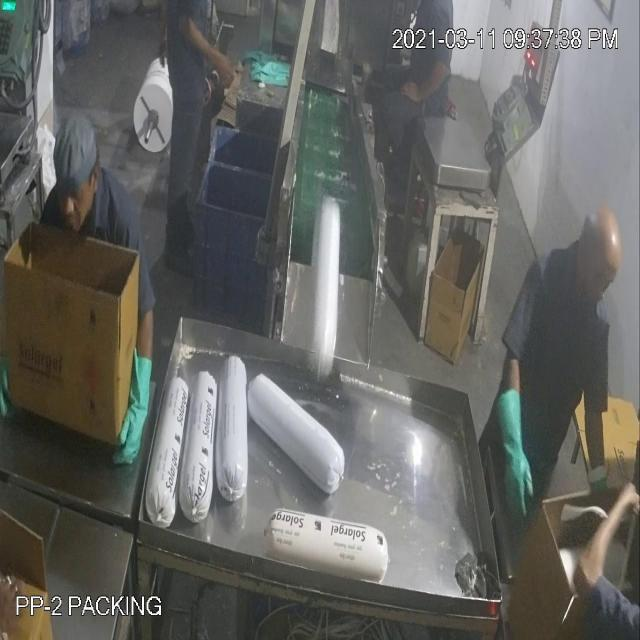No_Gloves: (54, 50, 606, 536)
